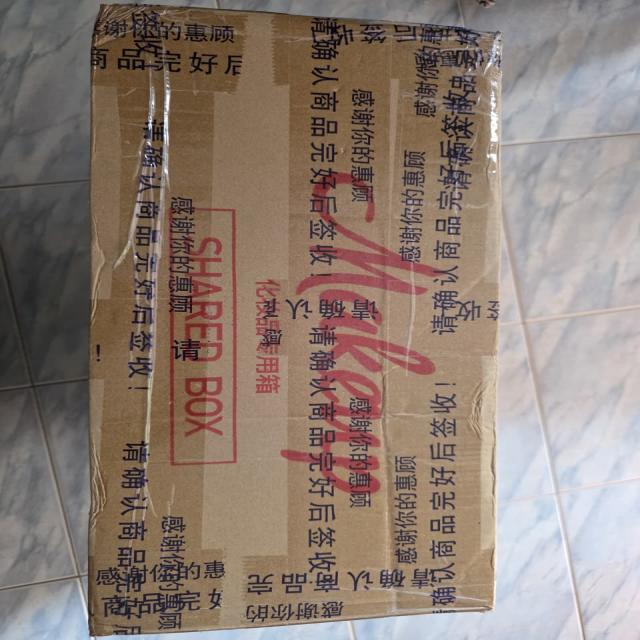carton_box: (52, 0, 534, 640)
